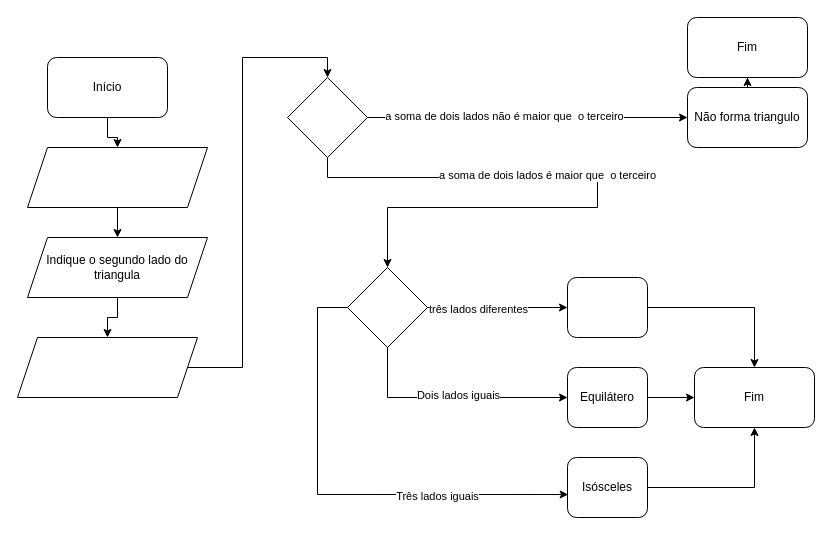
Image size: 832x535. Some labels were removed from this diagram. Each missing label, with the centre of its shape:
"Escaleno" belongs at [607,307].
"Indique o primeiro lado do triangula" belongs at [117,177].
"Indique o terceiro lado do triangula" belongs at [107,367].
